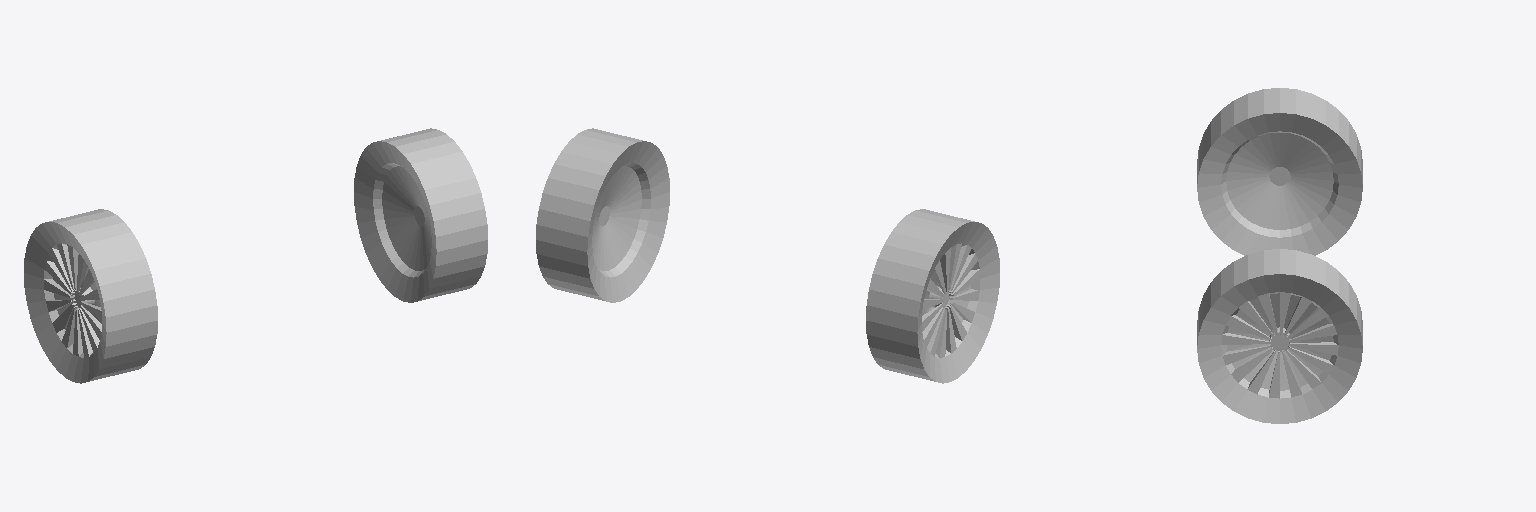
The model's file is rodas_frente.obj.
The picture shows the model from 3 angles: view 1: azimuth 30°, elevation 25°; view 2: azimuth 150°, elevation 25°; view 3: azimuth 270°, elevation 25°; orthographic projection.
Parts seen in each view (by area): view 1: Roda_frente; view 2: Roda_frente; view 3: Roda_frente.
Part boxes in pixels (x1,y1,x2,y2): Roda_frente: (24, 128, 487, 383); Roda_frente: (536, 128, 999, 383); Roda_frente: (1197, 88, 1362, 423).
Bounding box in the file's own units: 1.56 × 0.5859 × 0.5859.